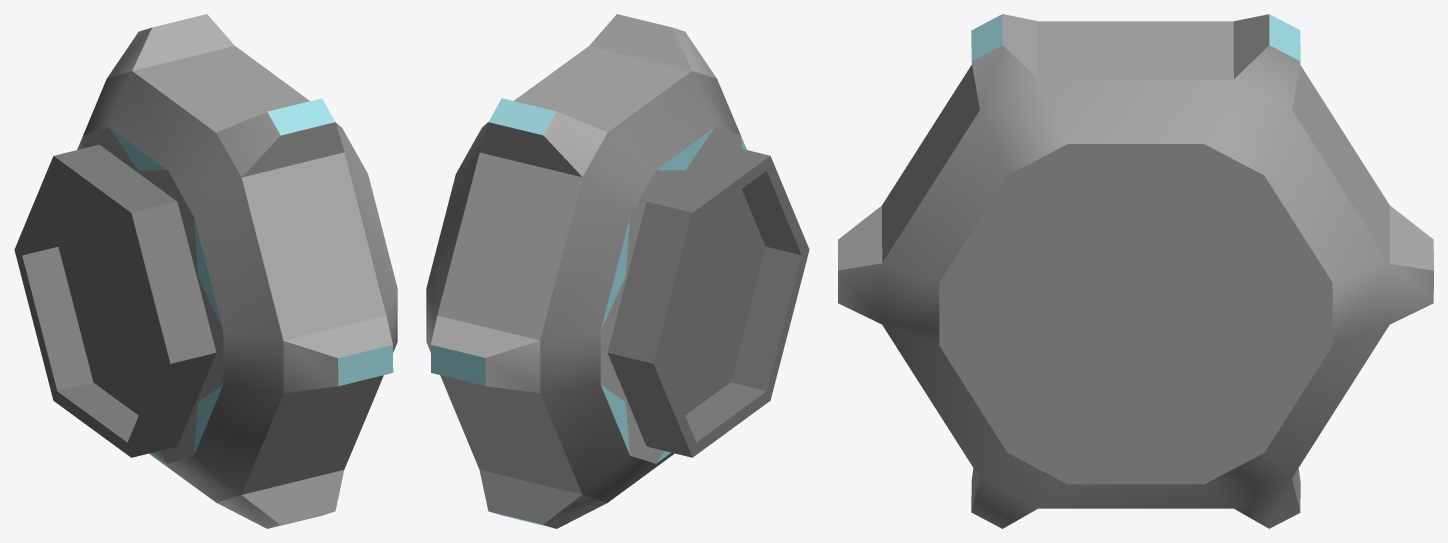
The model's file is ConvayerBeltPort.fbx.
The picture shows the model from 3 angles, left to right: view 1: azimuth 30°, elevation 25°; view 2: azimuth 150°, elevation 25°; view 3: azimuth 270°, elevation 25°; orthographic projection. The views are drawn at different scales.
Visible parts, largest first — view 1: Convayer_Port; view 2: Convayer_Port; view 3: Convayer_Port.
Boxes of the visible parts, x1,y1,x2,y2 form: Convayer_Port: (14,14,397,528); Convayer_Port: (426,14,809,528); Convayer_Port: (838,14,1433,528).
Size of the model in its own units: 10.3 by 18.65 by 20.81.
